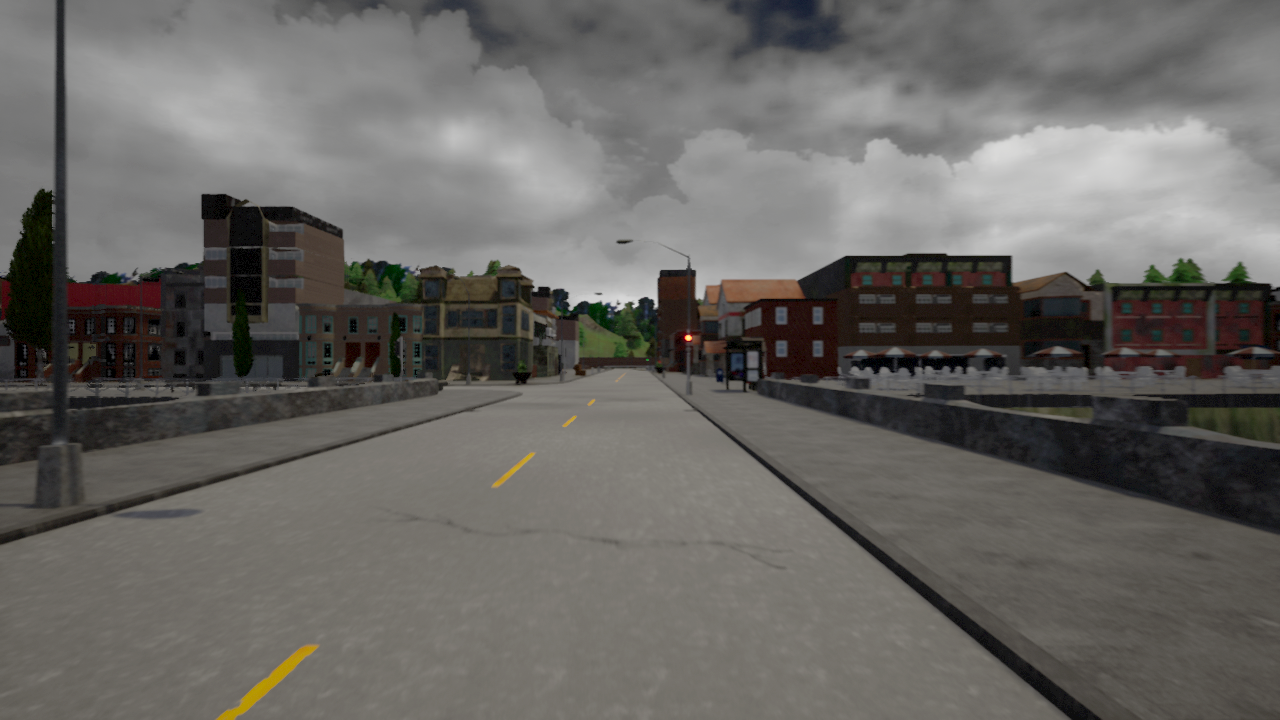red: (683, 332, 692, 353)
